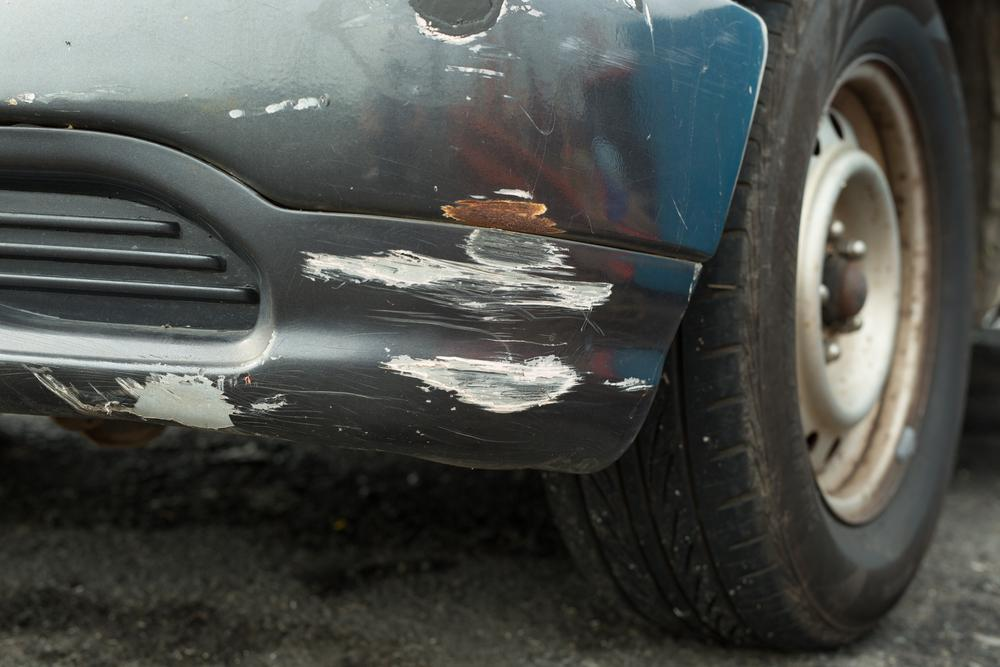scratch: (308, 227, 671, 424), (23, 364, 319, 433), (437, 178, 563, 237), (220, 90, 356, 125)
